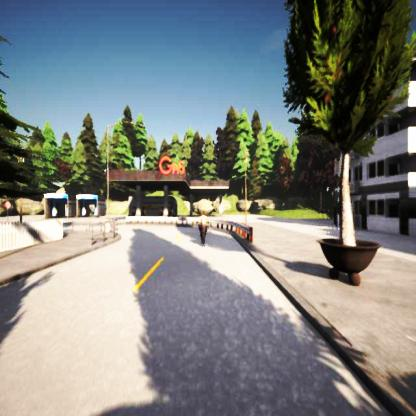motobike: (198, 214, 209, 246)
